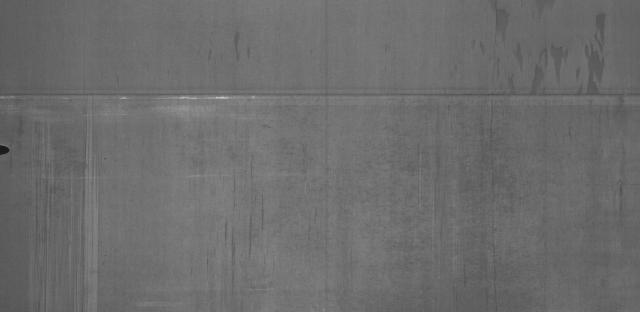punching_hole: (0, 133, 20, 162)
welding_line: (1, 81, 640, 104)
